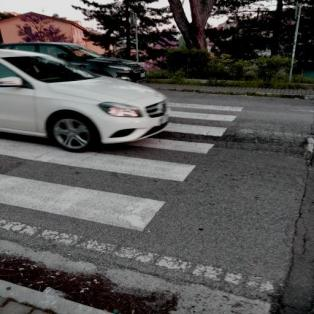Paso de Cebra: (0, 134, 200, 241)
